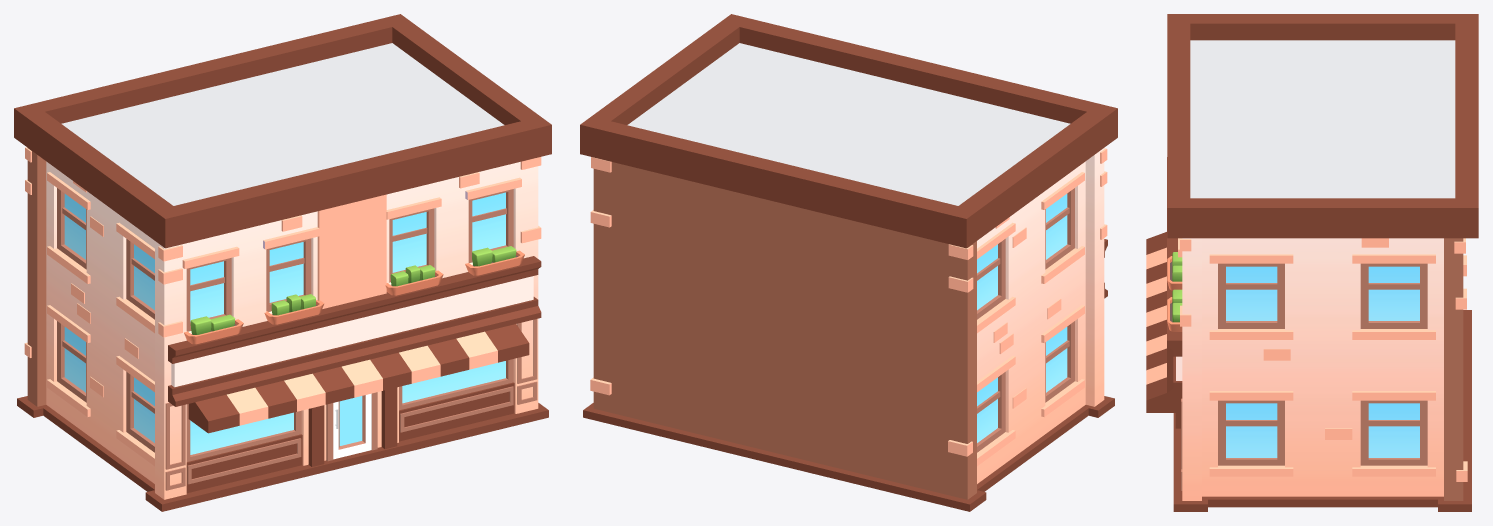
Rendered from city2-building-living-21.glb.
3 renders of one model, left to right at view 1: azimuth 30°, elevation 25°; view 2: azimuth 150°, elevation 25°; view 3: azimuth 270°, elevation 25°, orthographic. The views are drawn at different scales.
Parts seen in each view (by area): view 1: Building_Living_21; view 2: Building_Living_21; view 3: Building_Living_21.
Part boxes in pixels (box(x1,y1,x2,y2)): Building_Living_21: box(14, 14, 551, 511); Building_Living_21: box(580, 14, 1117, 511); Building_Living_21: box(1146, 14, 1478, 511).
Bounding box in the file's own units: 10.86 × 7.92 × 7.85.
Materials: 1 (1 with a texture image).
